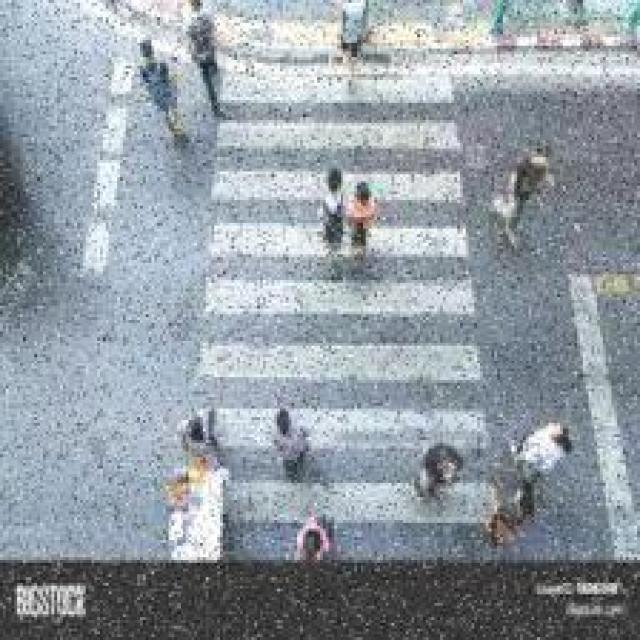zebra: (185, 30, 520, 599)
